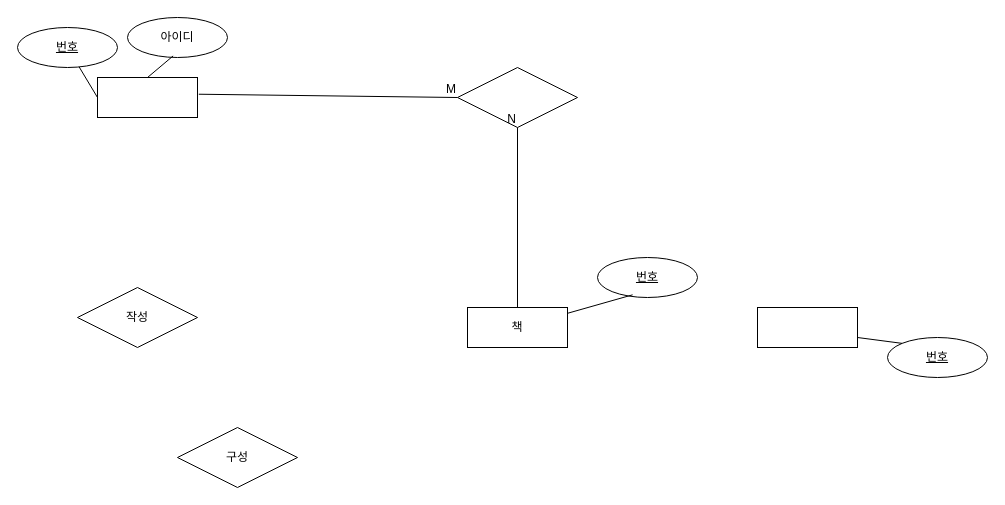
The diagram is 1005 pixels wide and 505 high, and some of its shapes have lost their labels. The shapes that lost their labels are listed below. From the top down, each one's centre as x and y in pixels, then its label:
At point (147, 97): "고객".
At point (517, 97): "구매".
At point (807, 327): "책이미지".
